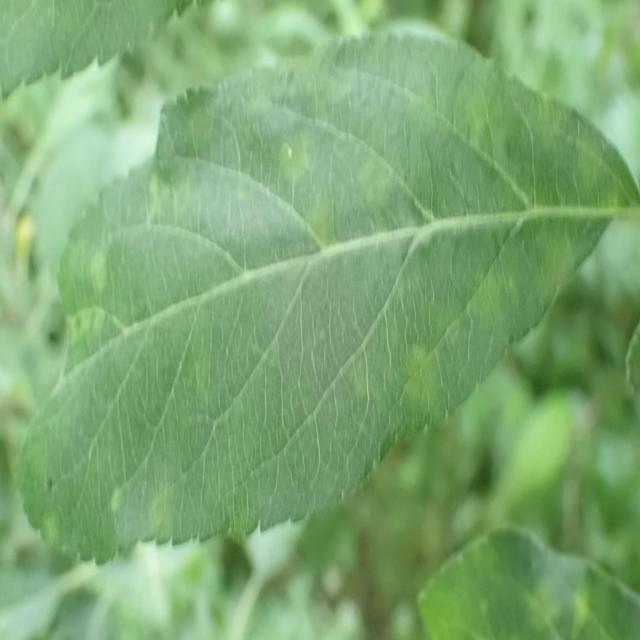scab: (18, 96, 627, 443)
